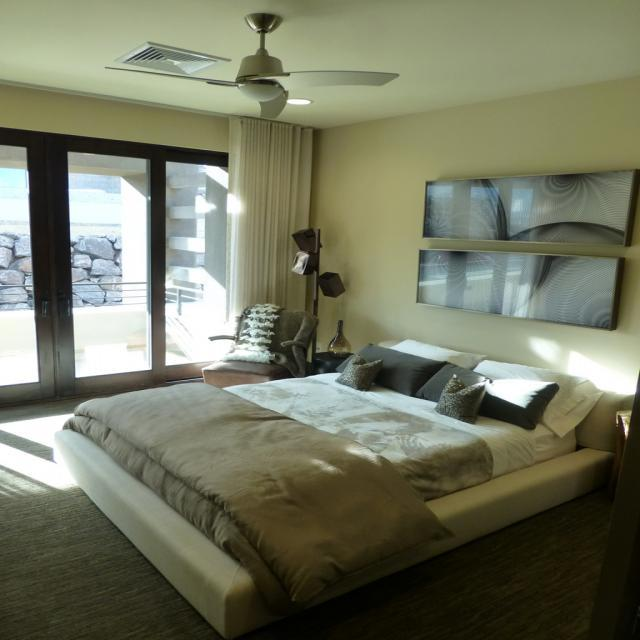bulb_on: (287, 96, 311, 108)
fan_off: (98, 20, 398, 118)
